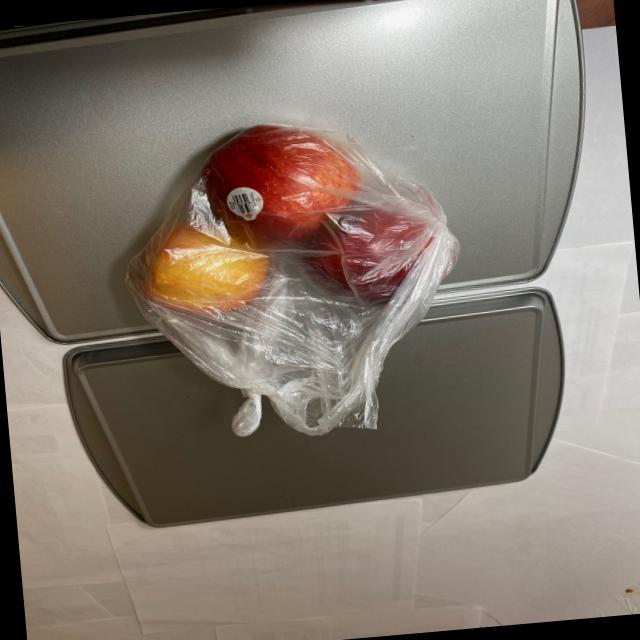apple: (119, 108, 462, 331)
